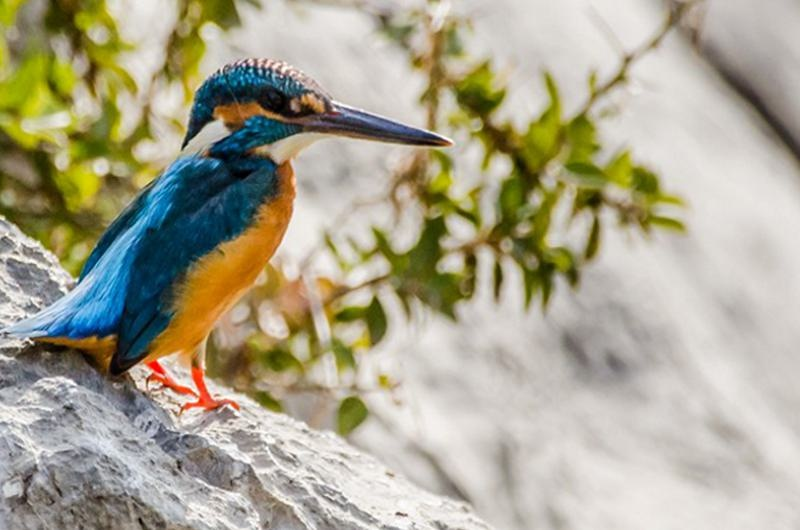kingfisher: (36, 68, 449, 423)
